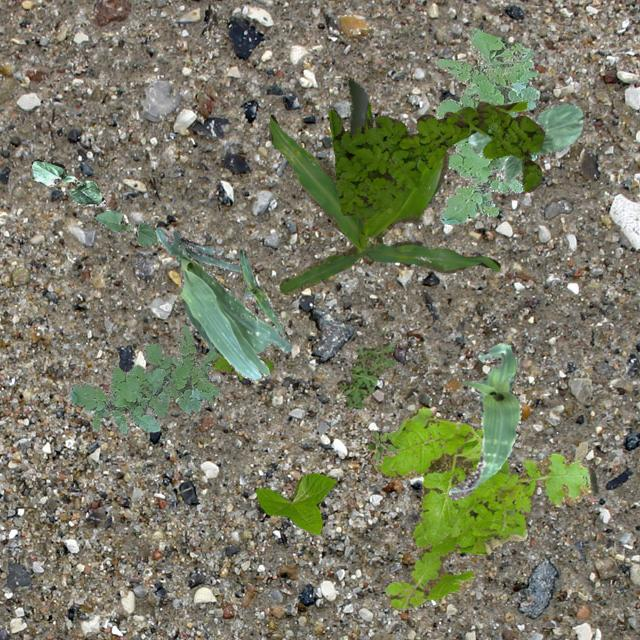crop: (268, 76, 526, 294), (154, 226, 292, 380), (448, 342, 522, 499), (467, 102, 582, 182), (254, 472, 336, 534), (238, 248, 284, 338), (30, 158, 104, 206), (94, 208, 158, 246)
weed: (372, 408, 596, 608), (328, 100, 544, 216), (436, 27, 538, 224), (70, 323, 220, 432), (336, 342, 396, 408), (210, 352, 272, 378), (364, 430, 396, 464)
